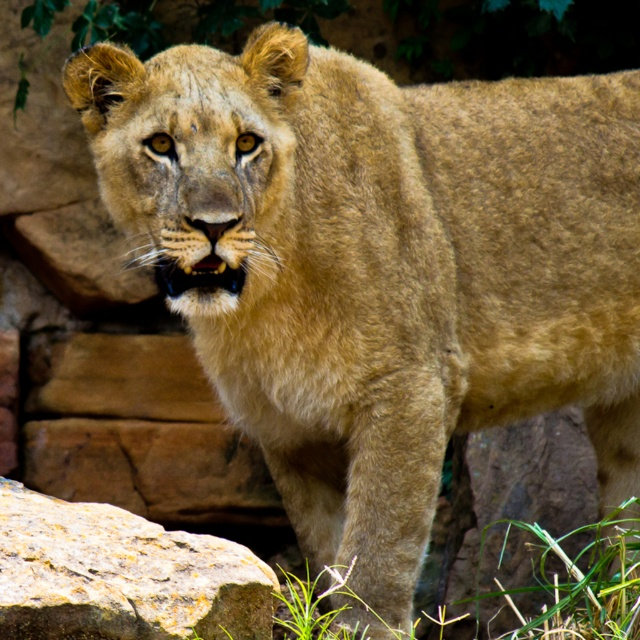Lion: (61, 20, 640, 640)
